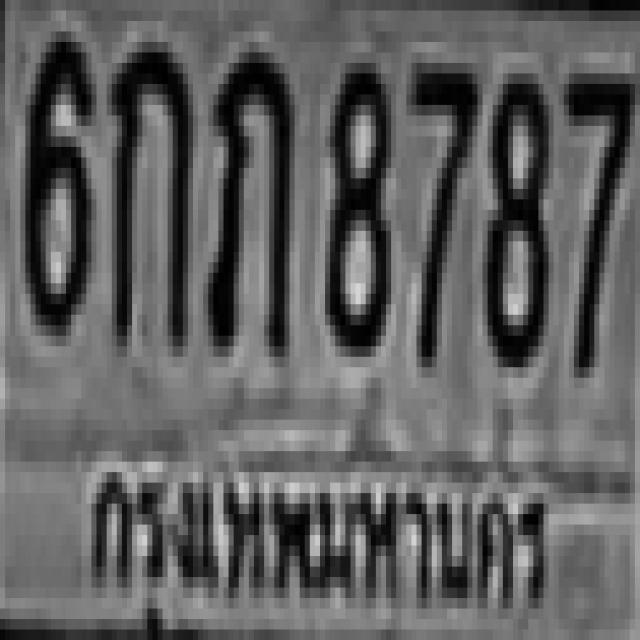10GorGai: (107, 31, 188, 346)
41PhorSamPhao: (203, 42, 290, 346)
6: (20, 21, 86, 325)
7: (559, 63, 630, 367), (407, 52, 472, 357)
8: (320, 52, 386, 346), (482, 63, 544, 357)
Chonburi: (81, 409, 564, 640)
